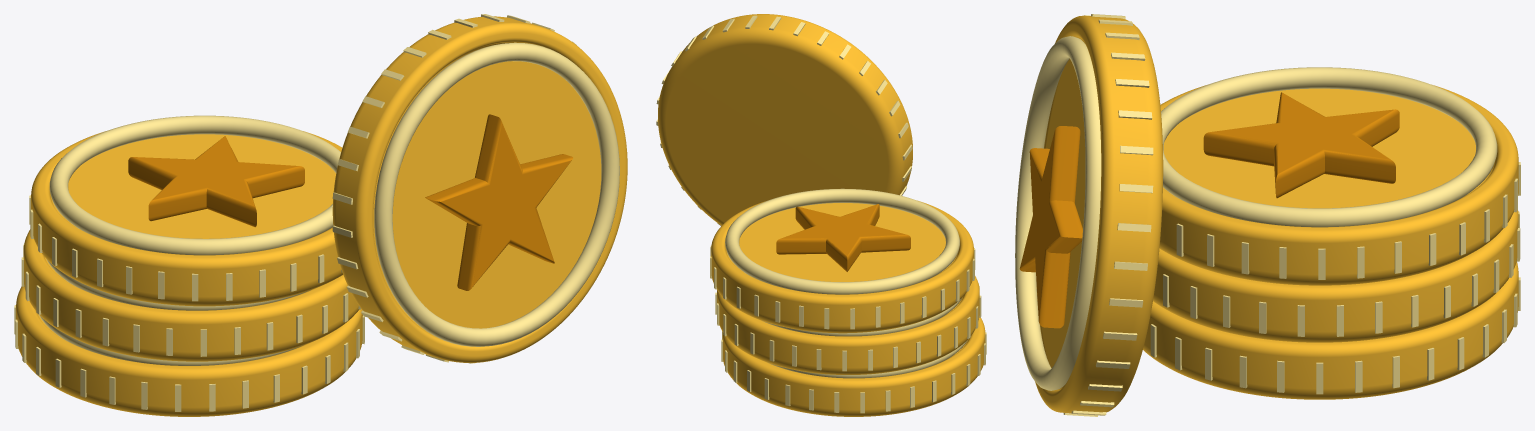
Rendered from coins.glb.
3 views of the same model, side by side, from view 1: azimuth 30°, elevation 25°; view 2: azimuth 150°, elevation 25°; view 3: azimuth 270°, elevation 25° (orthographic). The views are drawn at different scales.
Visible parts, largest first — view 1: coins-mesh6, coins-mesh4, Polished rim (×4), coins-mesh0, coins-mesh2, coins-mesh7, coins-mesh5; view 2: coins-mesh6, coins-mesh4, coins-mesh0, coins-mesh2, Polished rim (×3), coins-mesh5; view 3: coins-mesh4, Polished rim (×2), coins-mesh6, coins-mesh0, coins-mesh2, coins-mesh5, coins-mesh7.
Part boxes in pixels (bbox=[...]): coins-mesh6: bbox=[332, 16, 627, 362]; coins-mesh4: bbox=[31, 131, 342, 306]; Polished rim (×4): bbox=[39, 42, 619, 365]; coins-mesh0: bbox=[16, 286, 362, 416]; coins-mesh2: bbox=[23, 229, 359, 361]; coins-mesh7: bbox=[425, 114, 572, 290]; coins-mesh5: bbox=[128, 136, 304, 227]; coins-mesh6: bbox=[658, 14, 912, 225]; coins-mesh4: bbox=[711, 201, 973, 333]; coins-mesh0: bbox=[722, 317, 985, 416]; coins-mesh2: bbox=[717, 276, 979, 374]; Polished rim (×3): bbox=[725, 188, 967, 378]; coins-mesh5: bbox=[776, 204, 910, 271]; coins-mesh4: bbox=[1159, 85, 1518, 285]; Polished rim (×2): bbox=[1015, 36, 1497, 390]; coins-mesh6: bbox=[1035, 15, 1163, 413]; coins-mesh0: bbox=[1143, 262, 1518, 399]; coins-mesh2: bbox=[1153, 210, 1518, 342]; coins-mesh5: bbox=[1203, 92, 1399, 198]; coins-mesh7: bbox=[1019, 126, 1082, 328].
Bounding box in the file's own units: 0.1644 × 0.1097 × 0.1272.
